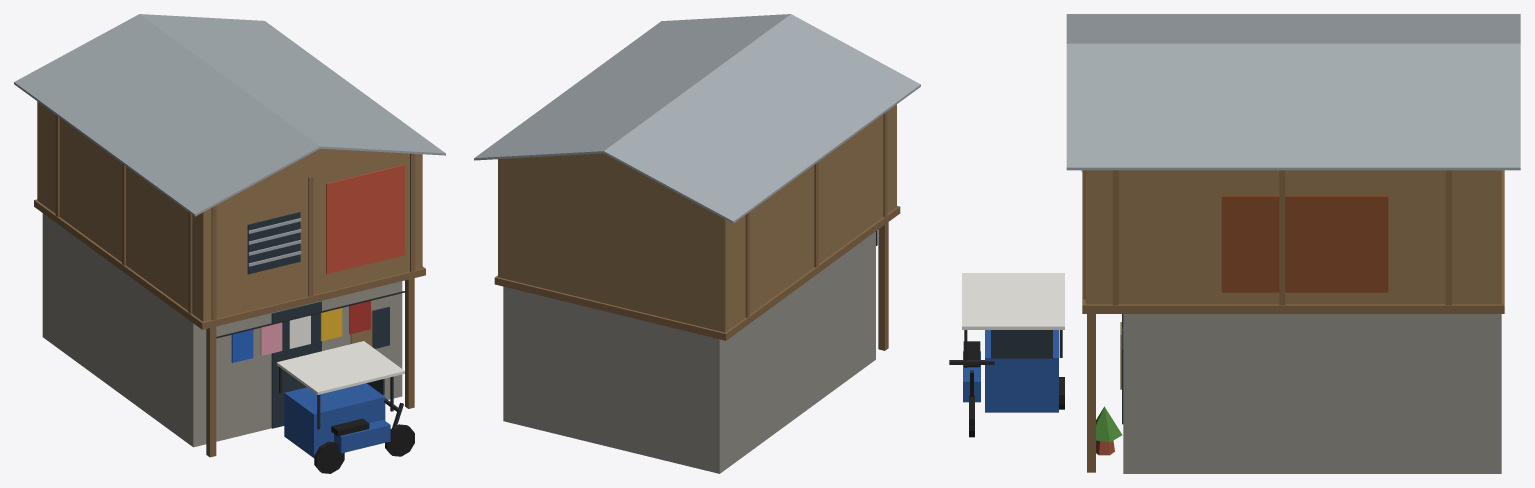
File: BAY_I_Shanty2F_F.glb
The picture shows the model from 3 angles, left to right: view 1: azimuth 30°, elevation 25°; view 2: azimuth 150°, elevation 25°; view 3: azimuth 270°, elevation 25°; orthographic projection. The views are drawn at different scales.
Parts seen in each view (by area): view 1: BAY_I_Shanty2F_F; view 2: BAY_I_Shanty2F_F; view 3: BAY_I_Shanty2F_F.
Part boxes in pixels (bbox=[...]): BAY_I_Shanty2F_F: bbox=[14, 14, 445, 473]; BAY_I_Shanty2F_F: bbox=[474, 14, 920, 473]; BAY_I_Shanty2F_F: bbox=[949, 14, 1520, 473].
Bounding box in the file's own units: 4.8 × 5.34 × 7.55.
Materials: 1 (1 with a texture image).
